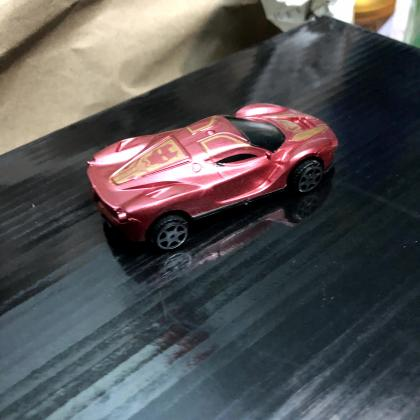Car: (87, 103, 339, 253)
